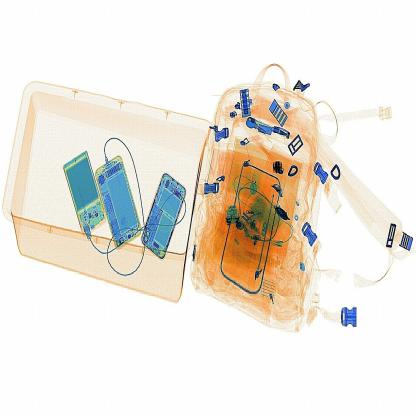scissors: (271, 158, 286, 180)
